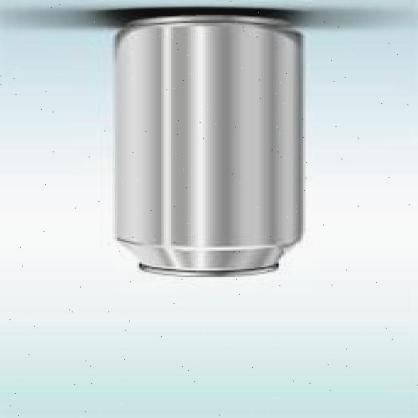can: (111, 11, 312, 280)
